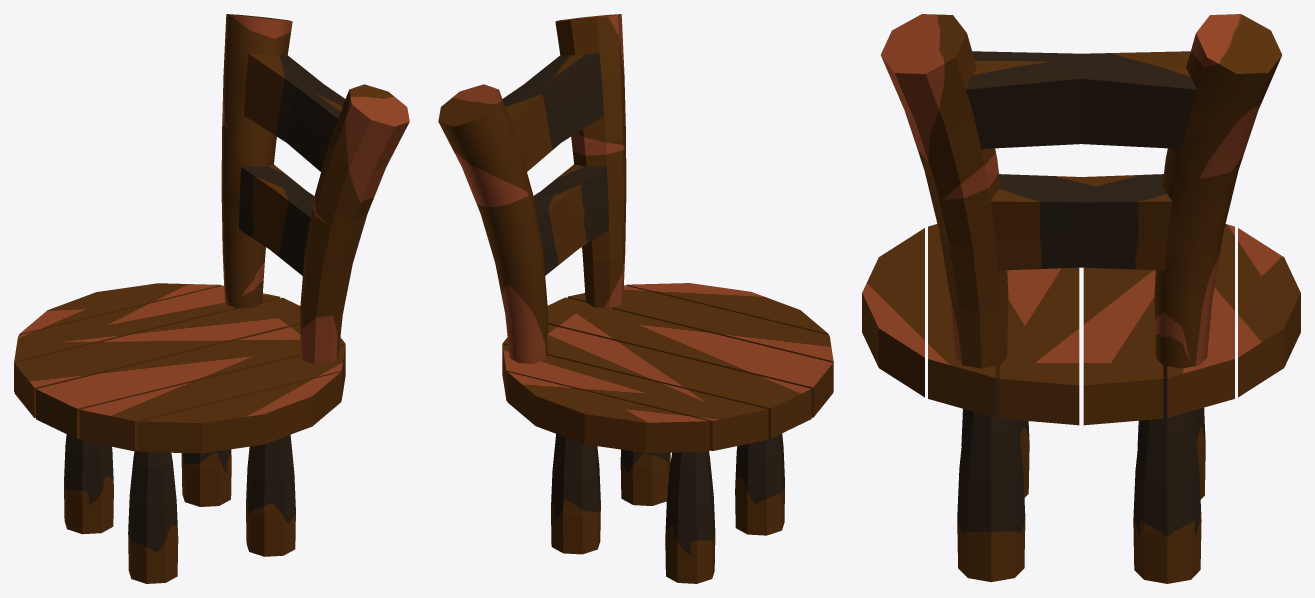
File: GRP_PRMC_Silla.FBX
The picture shows the model from 3 angles, left to right: view 1: azimuth 30°, elevation 25°; view 2: azimuth 150°, elevation 25°; view 3: azimuth 270°, elevation 25°; orthographic projection. The views are drawn at different scales.
Visible parts, largest first — view 1: PRMC_Silla_Tablones01, PRMC_Silla_Tablones02, PRMC_Silla_05, PRMC_Silla_06, PRMC_Silla_Tablones03, PRMC_Silla_Pata01, PRMC_Silla_Pata02, PRMC_Silla_Pata03, PRMC_Silla_02, PRMC_Silla_01, PRMC_Silla_03, PRMC_Silla_Pata04 (+1 smaller); view 2: PRMC_Silla_Tablones01, PRMC_Silla_Tablones03, PRMC_Silla_06, PRMC_Silla_05, PRMC_Silla_Tablones02, PRMC_Silla_Pata03, PRMC_Silla_Pata04, PRMC_Silla_Pata01, PRMC_Silla_01, PRMC_Silla_02, PRMC_Silla_04, PRMC_Silla_03 (+1 smaller); view 3: PRMC_Silla_Tablones01, PRMC_Silla_06, PRMC_Silla_05, PRMC_Silla_Tablones02, PRMC_Silla_Tablones03, PRMC_Silla_Pata04, PRMC_Silla_Pata02, PRMC_Silla_02, PRMC_Silla_01, PRMC_Silla_03, PRMC_Silla_04, PRMC_Silla_Pata03 (+1 smaller).
Part boxes in pixels (box(x1,y1,x2,y2)): PRMC_Silla_Tablones01: box(14, 297, 345, 438); PRMC_Silla_Tablones02: box(79, 345, 345, 453); PRMC_Silla_05: box(300, 84, 409, 364); PRMC_Silla_06: box(221, 14, 292, 308); PRMC_Silla_Tablones03: box(14, 283, 280, 391); PRMC_Silla_Pata01: box(128, 451, 178, 583); PRMC_Silla_Pata02: box(246, 434, 295, 556); PRMC_Silla_Pata03: box(64, 434, 113, 534); PRMC_Silla_02: box(244, 53, 323, 142); PRMC_Silla_01: box(286, 84, 345, 171); PRMC_Silla_03: box(239, 164, 306, 248); PRMC_Silla_Pata04: box(181, 449, 231, 506); PRMC_Silla_Tablones01: box(502, 297, 833, 438); PRMC_Silla_Tablones03: box(502, 344, 768, 452); PRMC_Silla_06: box(438, 84, 547, 363); PRMC_Silla_05: box(555, 14, 626, 308); PRMC_Silla_Tablones02: box(567, 283, 833, 391); PRMC_Silla_Pata03: box(665, 451, 715, 583); PRMC_Silla_Pata04: box(551, 434, 600, 554); PRMC_Silla_Pata01: box(735, 433, 784, 535); PRMC_Silla_01: box(524, 53, 603, 142); PRMC_Silla_02: box(502, 84, 561, 171); PRMC_Silla_04: box(541, 164, 608, 248); PRMC_Silla_03: box(533, 191, 578, 275); PRMC_Silla_Tablones01: box(999, 267, 1163, 425); PRMC_Silla_06: box(1154, 14, 1281, 377); PRMC_Silla_05: box(881, 14, 1008, 377); PRMC_Silla_Tablones02: box(862, 224, 995, 417); PRMC_Silla_Tablones03: box(1167, 224, 1300, 417); PRMC_Silla_Pata04: box(1133, 377, 1201, 583); PRMC_Silla_Pata02: box(957, 377, 1025, 582); PRMC_Silla_02: box(1081, 51, 1196, 148); PRMC_Silla_01: box(966, 51, 1081, 148); PRMC_Silla_03: box(1081, 174, 1172, 270); PRMC_Silla_04: box(990, 174, 1081, 270); PRMC_Silla_Pata03: box(1137, 407, 1205, 499).
Size of the model in its own units: 0.6849 by 0.9464 by 0.6336.
